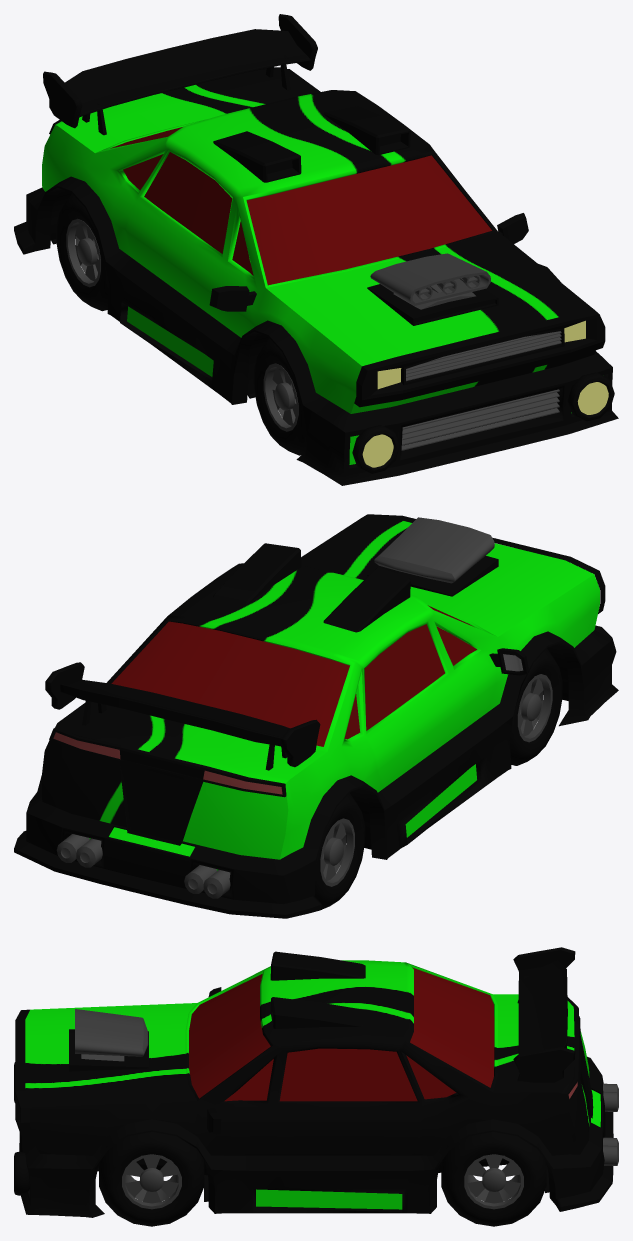
Rendered from Muscle Evolution4 Black WaveBlackGreen DarkRed DarkGrey.glb.
3 renders of one model, top to bottom at view 1: azimuth 30°, elevation 25°; view 2: azimuth 150°, elevation 25°; view 3: azimuth 270°, elevation 25°, orthographic. The views are drawn at different scales.
Visible parts, largest first — view 1: evo4_sillPartR_f1_dupl, evo4_evo4_polySurface1_f1_dupl, evo4_frontGlass_f1_dupl, evo4_Spoiler4_f1_dupl, evo4_frontBlockGrid_f1_dupl, evo4_glasseBigR_f1_dupl, evo4_engine_f1_dupl, evo4_front_down_grid_f1_dupl, evo4_airtrap_r_f1_dupl, evo4_airtrap_l_f1_dupl, evo4_front_up_grid_f1_dupl, evo4_tire_rf_f1_dupl (+11 smaller); view 2: evo4_sillPartR_f1_dupl, evo4_evo4_polySurface1_f1_dupl, evo4_BackGlassGlass_f1_dupl, evo4_Spoiler4_f1_dupl, evo4_blockBackLights_f1_dupl, evo4_engine_f1_dupl, evo4_glasseBigR_f1_dupl, evo4_airtrap_r_f1_dupl, evo4_airtrap_l_f1_dupl, evo4_tire_rf2_f1_dupl, evo4_tire_rf_f1_dupl, evo4_rim_A_rf_f1_dupl (+9 smaller); view 3: evo4_sillPartR_f1_dupl, evo4_evo4_polySurface1_f1_dupl, evo4_BackGlassGlass_f1_dupl, evo4_Spoiler4_f1_dupl, evo4_glasseBigL_f1_dupl, evo4_frontGlass_f1_dupl, evo4_tire_lf_f1_dupl, evo4_tire_lb_f1_dupl, evo4_engine_f1_dupl, evo4_rim_A_lf_f1_dupl, evo4_rim_A_lb_f1_dupl, evo4_airtrap_l_f1_dupl (+9 smaller).
Boxes of the visible parts, x1,y1,x2,y2 form: evo4_sillPartR_f1_dupl: (42, 69, 595, 464); evo4_evo4_polySurface1_f1_dupl: (14, 176, 618, 485); evo4_frontGlass_f1_dupl: (246, 155, 491, 285); evo4_Spoiler4_f1_dupl: (43, 14, 317, 135); evo4_frontBlockGrid_f1_dupl: (354, 309, 605, 407); evo4_glasseBigR_f1_dupl: (144, 152, 232, 253); evo4_engine_f1_dupl: (370, 253, 490, 309); evo4_front_down_grid_f1_dupl: (401, 389, 559, 450); evo4_airtrap_r_f1_dupl: (213, 131, 301, 182); evo4_airtrap_l_f1_dupl: (323, 106, 410, 155); evo4_front_up_grid_f1_dupl: (406, 331, 561, 381); evo4_tire_rf_f1_dupl: (56, 194, 109, 311); evo4_sillPartR_f1_dupl: (42, 517, 599, 870); evo4_evo4_polySurface1_f1_dupl: (14, 630, 618, 918); evo4_BackGlassGlass_f1_dupl: (111, 621, 349, 746); evo4_Spoiler4_f1_dupl: (45, 662, 320, 770); evo4_blockBackLights_f1_dupl: (49, 727, 286, 845); evo4_engine_f1_dupl: (374, 517, 494, 583); evo4_glasseBigR_f1_dupl: (364, 624, 444, 730); evo4_airtrap_r_f1_dupl: (323, 567, 410, 632); evo4_airtrap_l_f1_dupl: (213, 543, 301, 603); evo4_tire_rf2_f1_dupl: (509, 648, 562, 765); evo4_tire_rf_f1_dupl: (315, 793, 365, 909); evo4_rim_A_rf_f1_dupl: (517, 674, 552, 742); evo4_sillPartR_f1_dupl: (25, 960, 600, 1209); evo4_evo4_polySurface1_f1_dupl: (19, 1056, 613, 1217); evo4_BackGlassGlass_f1_dupl: (410, 967, 494, 1087); evo4_Spoiler4_f1_dupl: (513, 947, 575, 1082); evo4_glasseBigL_f1_dupl: (279, 1048, 417, 1101); evo4_frontGlass_f1_dupl: (189, 974, 270, 1098); evo4_tire_lf_f1_dupl: (99, 1132, 204, 1226); evo4_tire_lb_f1_dupl: (441, 1132, 546, 1226); evo4_engine_f1_dupl: (75, 1009, 148, 1061); evo4_rim_A_lf_f1_dupl: (122, 1154, 181, 1209); evo4_rim_A_lb_f1_dupl: (464, 1154, 523, 1209); evo4_airtrap_l_f1_dupl: (270, 997, 365, 1028).
Size of the model in its own units: 177 by 120 by 337.
Materials: 8 (1 with a texture image).
